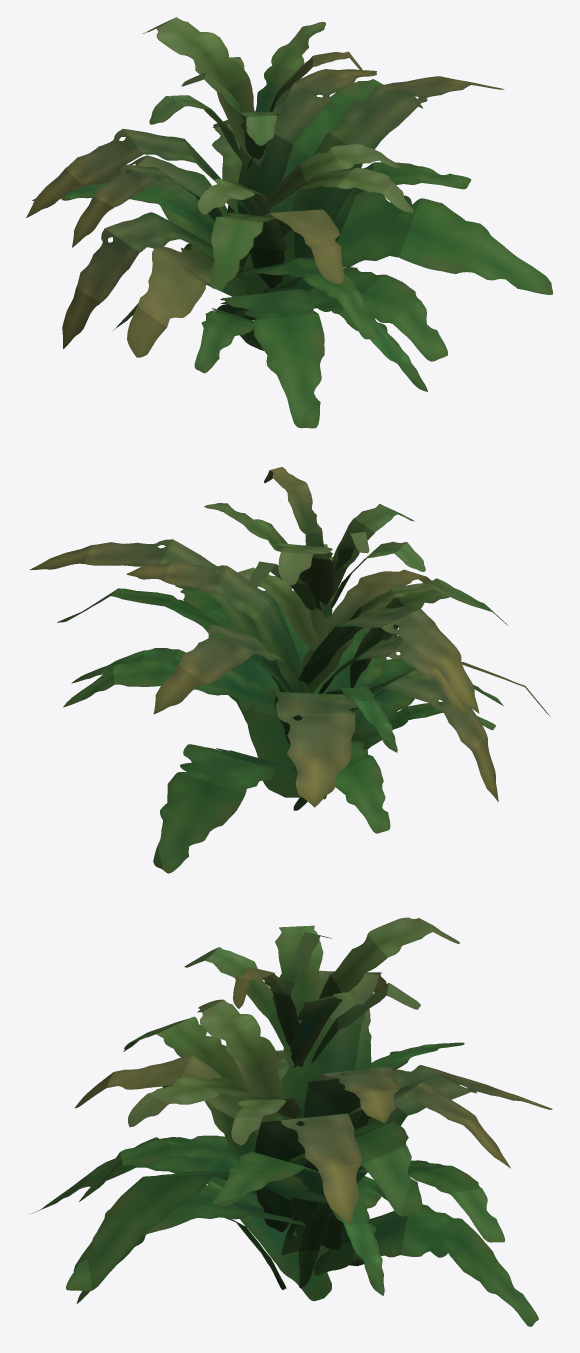
The model's file is Foliage.fbx.
3 renders of one model, top to bottom at view 1: azimuth 30°, elevation 25°; view 2: azimuth 150°, elevation 25°; view 3: azimuth 270°, elevation 25°, orthographic. The views are drawn at different scales.
Parts seen in each view (by area): view 1: Dn_EN_Foliage_Fern_A.mo; view 2: Dn_EN_Foliage_Fern_A.mo; view 3: Dn_EN_Foliage_Fern_A.mo.
Part boxes in pixels (x1=…): Dn_EN_Foliage_Fern_A.mo: x1=26, y1=17, x2=552, y2=428; Dn_EN_Foliage_Fern_A.mo: x1=30, y1=467, x2=550, y2=873; Dn_EN_Foliage_Fern_A.mo: x1=31, y1=917, x2=552, y2=1326.
Bounding box in the file's own units: 268 × 165 × 230.
